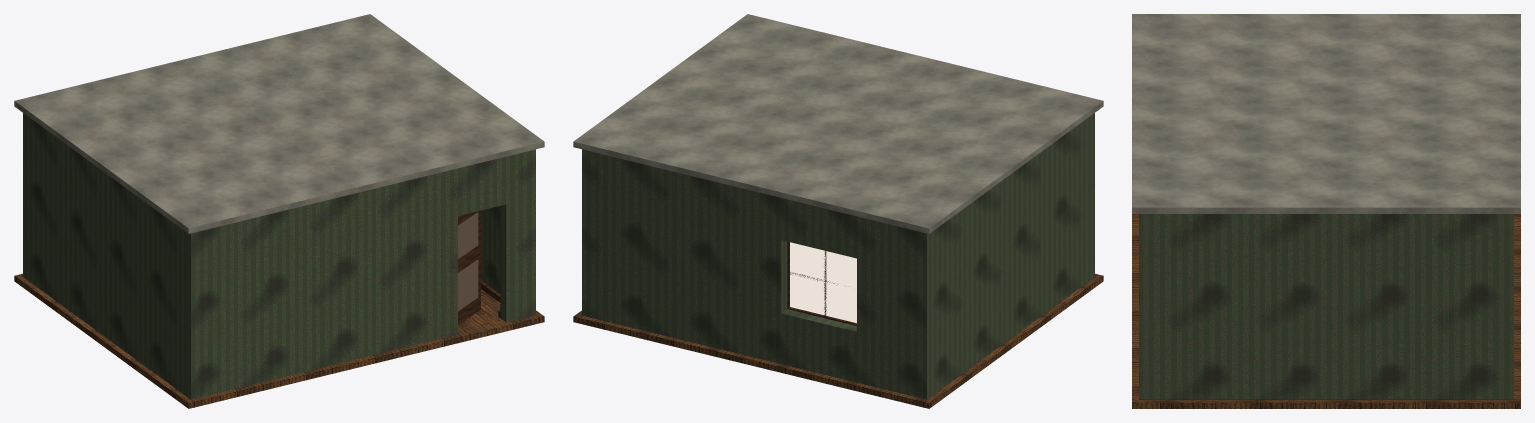
Rendered from ep_tabuleiro_sergei.glb.
3 renders of one model, left to right at view 1: azimuth 30°, elevation 25°; view 2: azimuth 150°, elevation 25°; view 3: azimuth 270°, elevation 25°, orthographic. The views are drawn at different scales.
Parts seen in each view (by area): view 1: wallpaper-col, plaster-col, parquet-col, flat, wood_dark; view 2: wallpaper-col, plaster-col, parquet-col, flat.002, wood_dark; view 3: plaster-col, wallpaper-col, parquet-col.
Boxes of the visible parts, x1,y1,x2,y2 form: wallpaper-col: (23,113,535,399); plaster-col: (14,14,544,233); parquet-col: (14,273,544,408); flat: (458,212,478,311); wood_dark: (458,210,500,324); wallpaper-col: (582,113,1094,399); plaster-col: (573,14,1103,233); parquet-col: (573,273,1103,408); flat.002: (790,242,856,323); wood_dark: (787,241,856,325); plaster-col: (1132,14,1520,213); wallpaper-col: (1139,214,1513,399); parquet-col: (1132,214,1520,408).
Bounding box in the file's own units: 6.6 × 3.2 × 5.6.
Materials: 33 (8 with a texture image).
